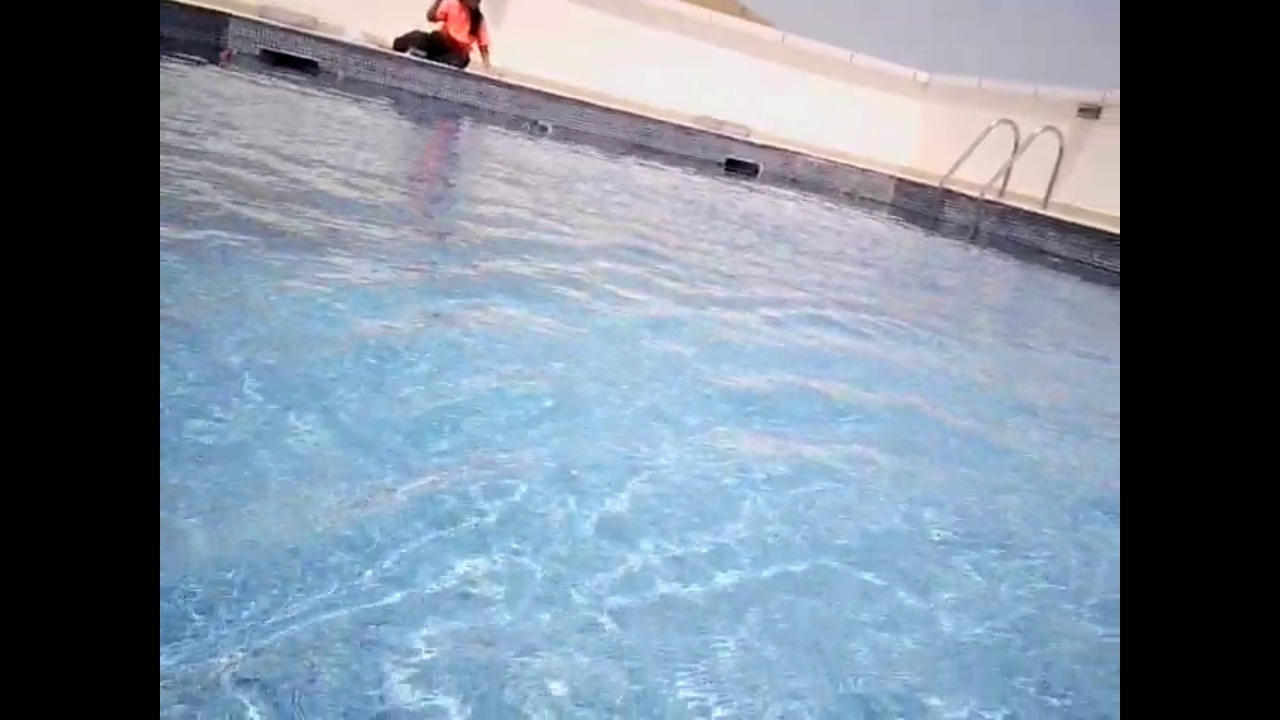debris: (522, 109, 557, 138), (215, 44, 239, 65), (326, 65, 347, 83)
